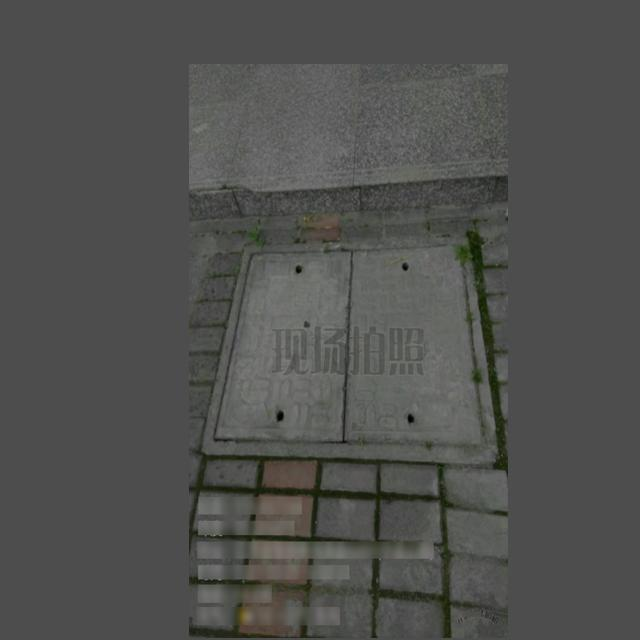good: (203, 241, 487, 452)
